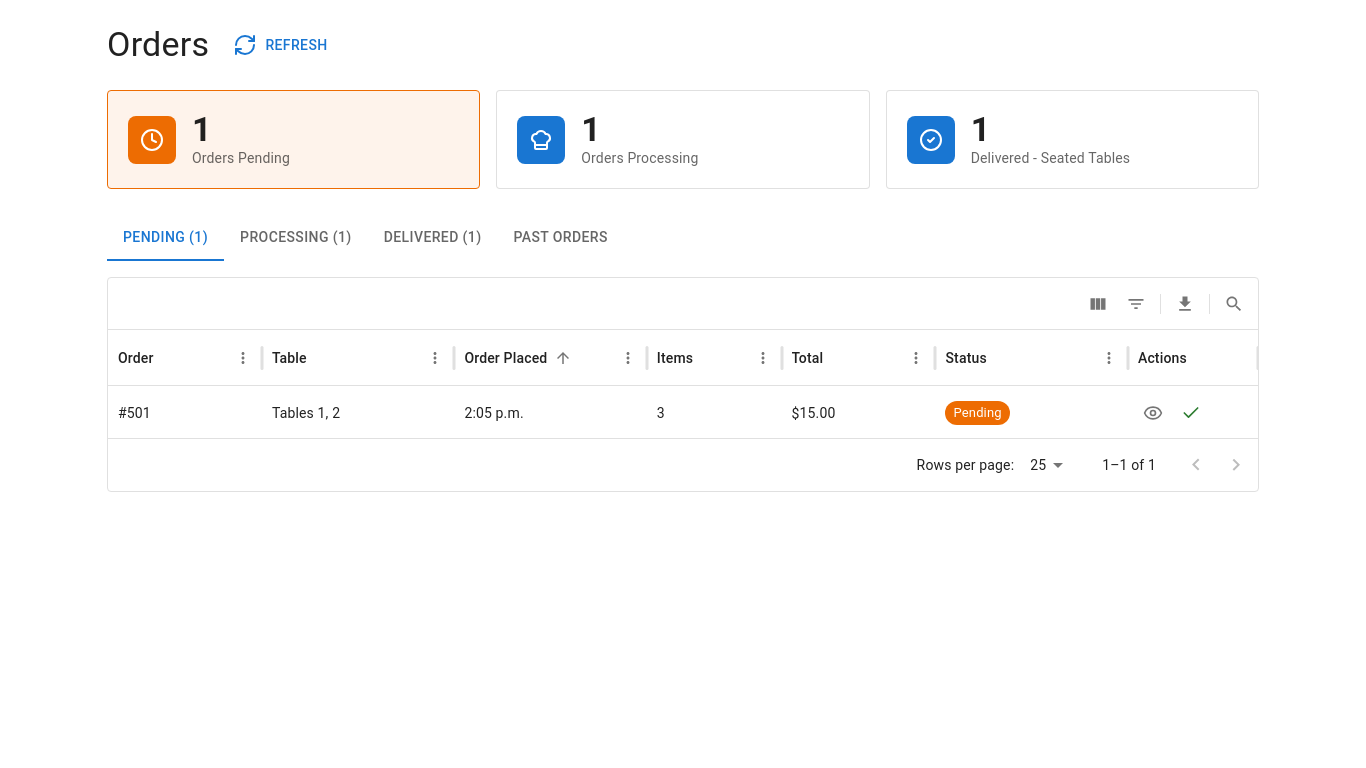
Test: Past orders › opens a table's orders split by bill, read only
Check: the text "#501" is shown, box [118,405,151,421]
Click the tab "Past Orders" at (561, 237), box [498,213,624,261]
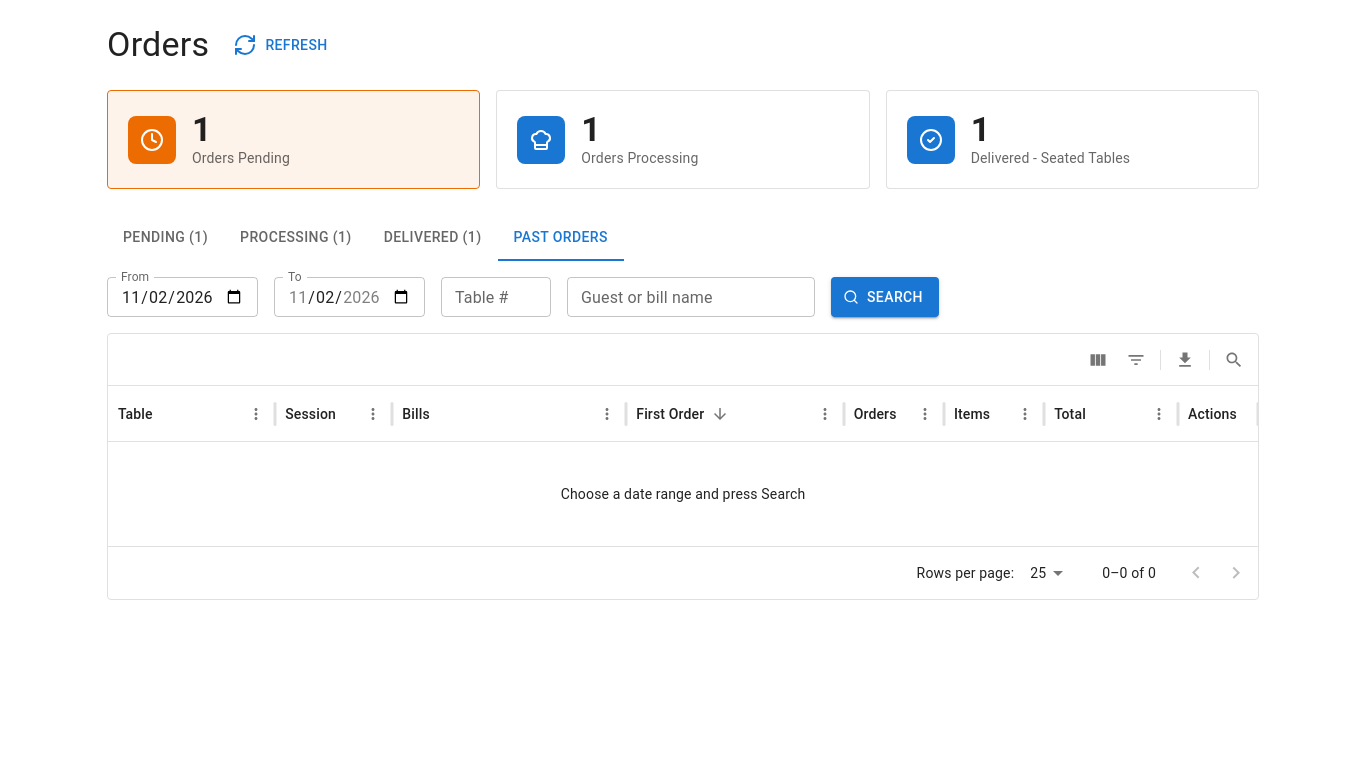
Click the button "Search" at (885, 297), box [831,277,939,317]
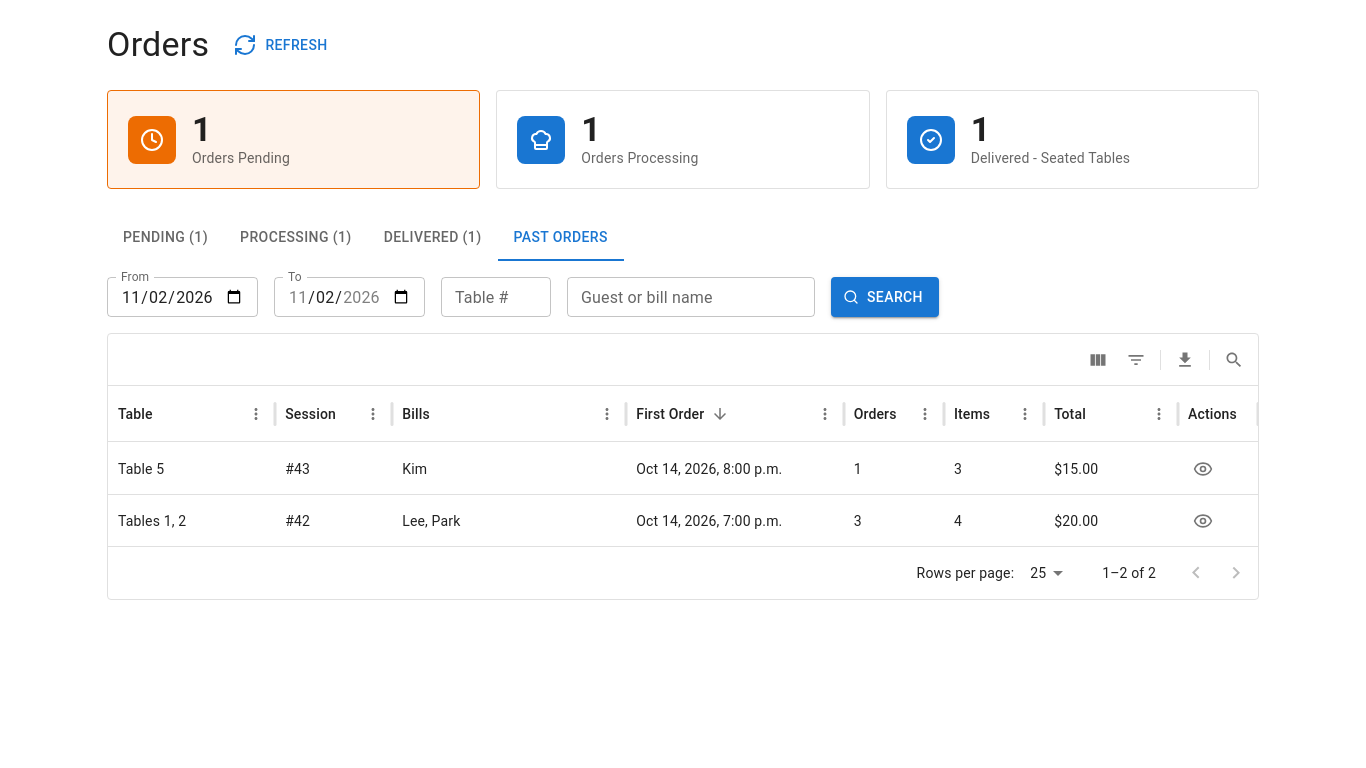
Click the button named "View table orders" in the row of "Tables 1, 2" at (1203, 521), box [1188,506,1218,536]
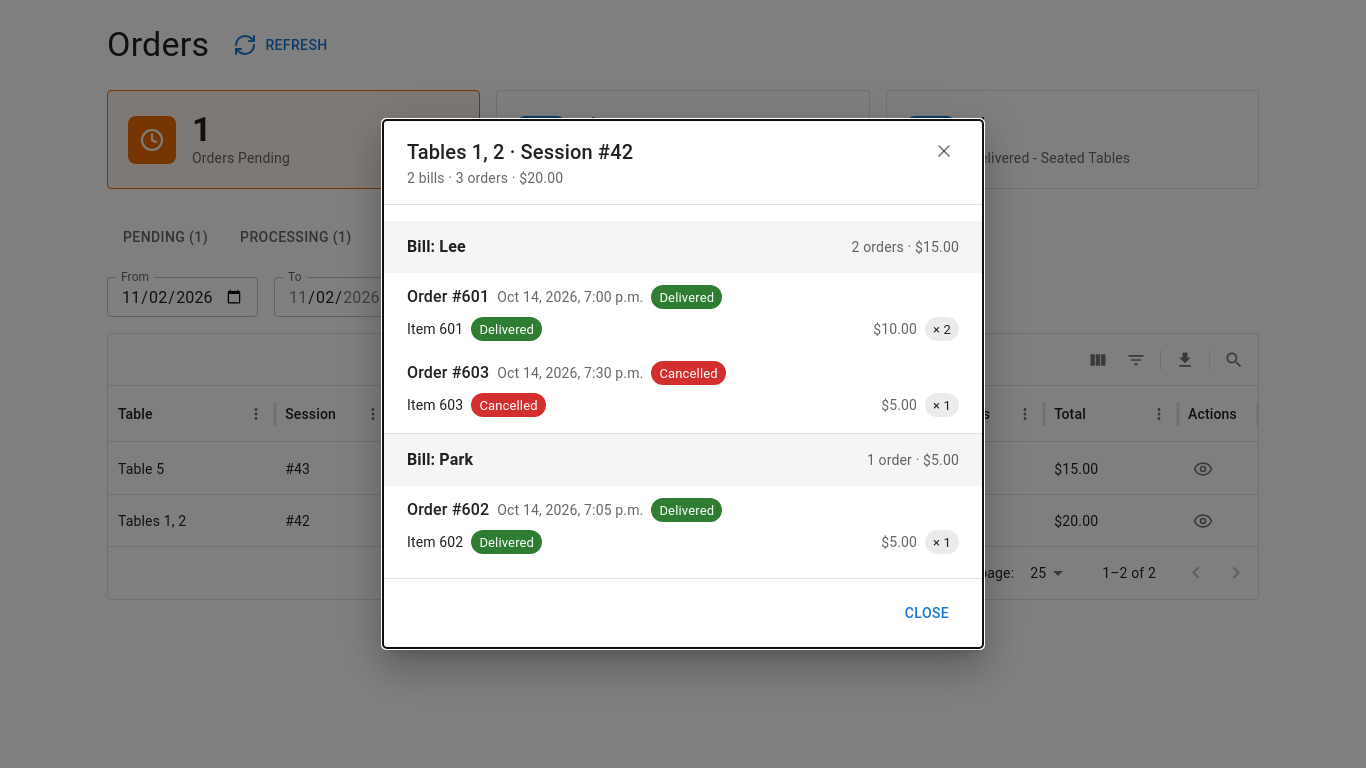
Check: the text "Order #601" is shown, box [407,285,489,309]
Check: the text "Order #603" is shown, box [407,361,489,385]
Check: the text "Cancelled" next to "Oct 14, 2026, 7:30 p.m." is shown, box [659,366,718,380]
